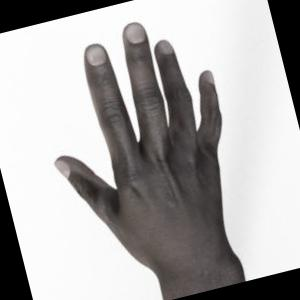paper: (55, 22, 245, 300)
